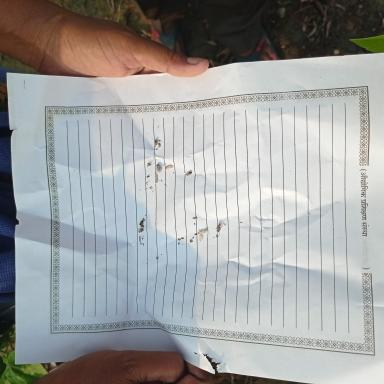pbw: (165, 165, 173, 169), (155, 174, 158, 183)
